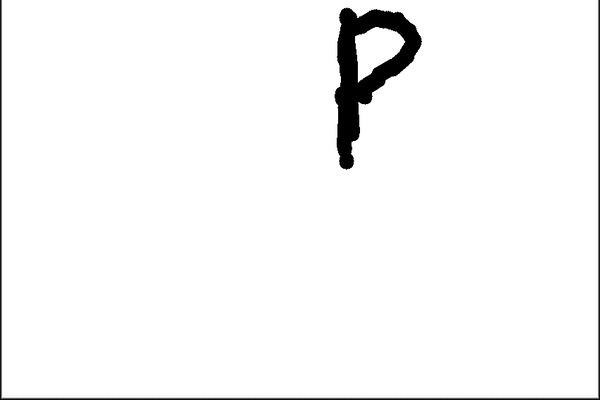P: (317, 0, 437, 181)
